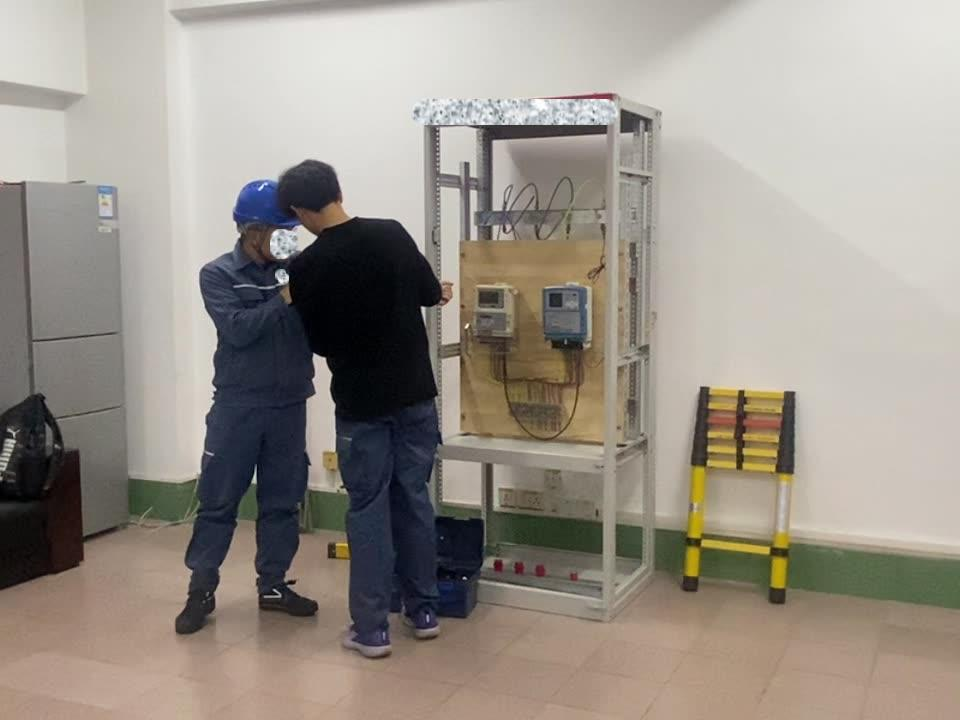halt: (233, 180, 301, 263)
inear: (243, 223, 273, 258)
unhalt: (278, 161, 348, 231)
